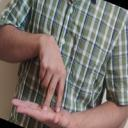hand: (37, 33, 66, 113), (11, 98, 69, 128)
